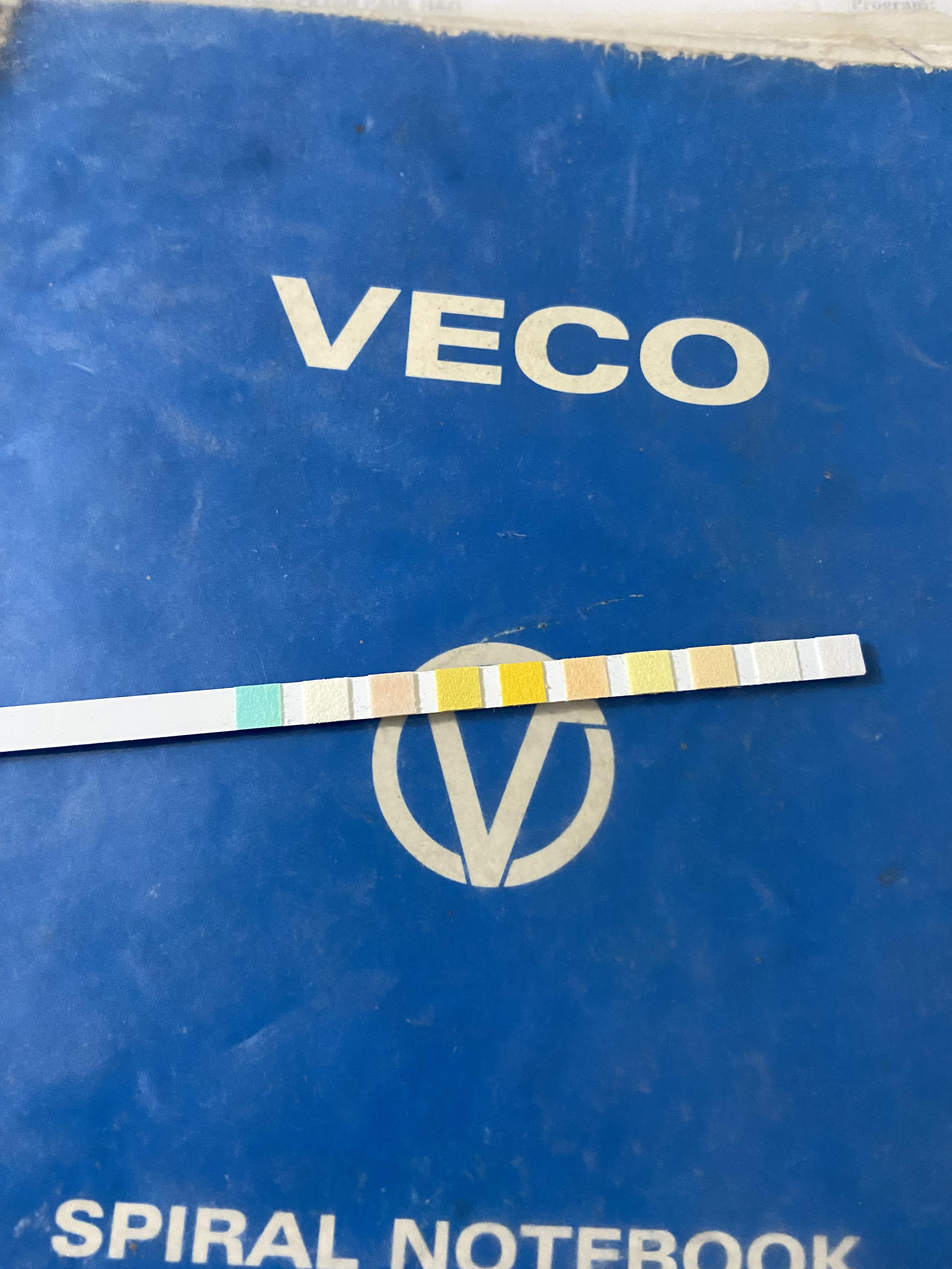Bilirubin: (305, 681, 348, 720)
Blood: (501, 664, 543, 703)
Glucose: (237, 688, 281, 725)
Ketone: (372, 676, 414, 714)
Leukocytes: (822, 637, 858, 676)
Nitrite: (758, 642, 794, 681)
Protein: (631, 653, 669, 692)
SpGravity: (440, 670, 479, 708)
Urobilinogen: (694, 648, 732, 686)
pH: (568, 659, 606, 697)
strip: (1, 633, 866, 752)
